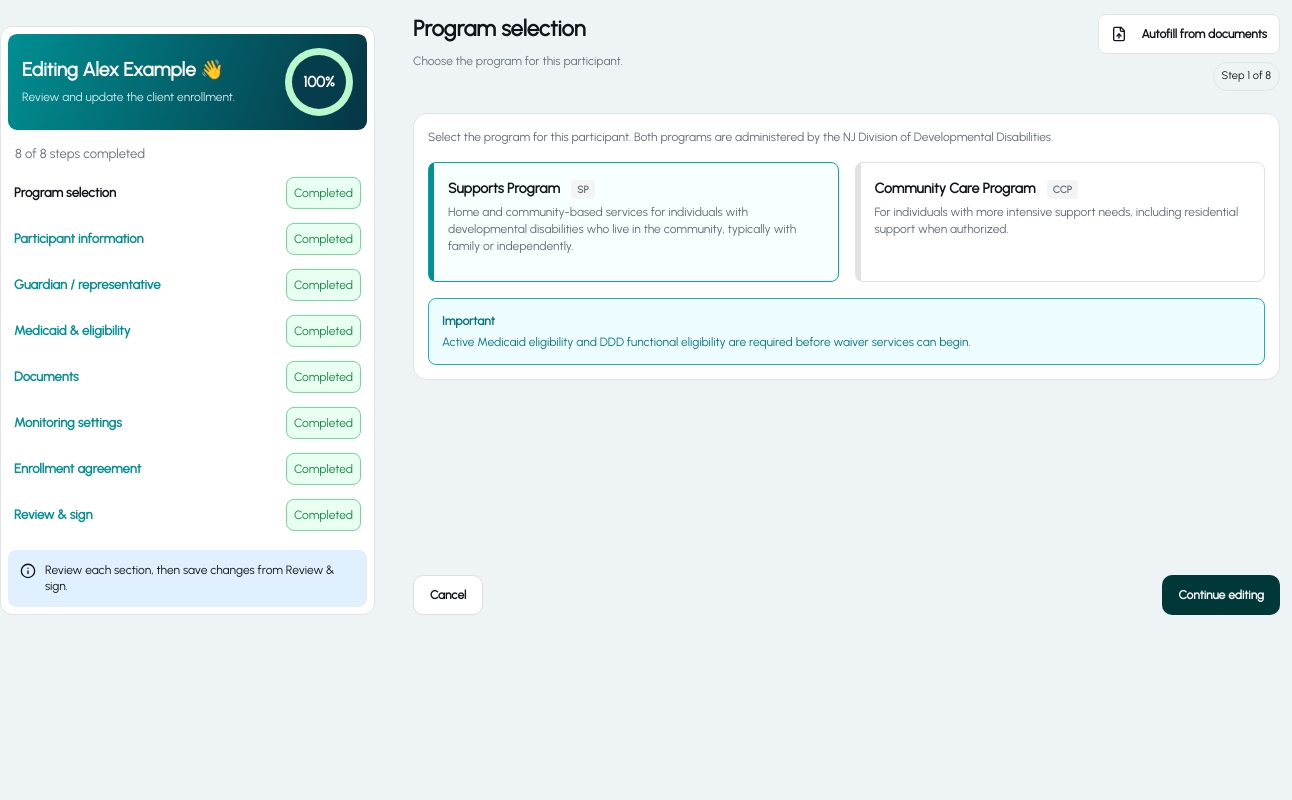
Test: ordinary uploads keep edited metadata across navigation and append to existing documents only on final Save
Later steps or results of the test are not shown.
Expected: the text "Editing Alex Example" is shown, x1=22 y1=58 x2=196 y2=81
Click the button "Documents Completed" at (46, 376), box x1=8 y1=353 x2=367 y2=399
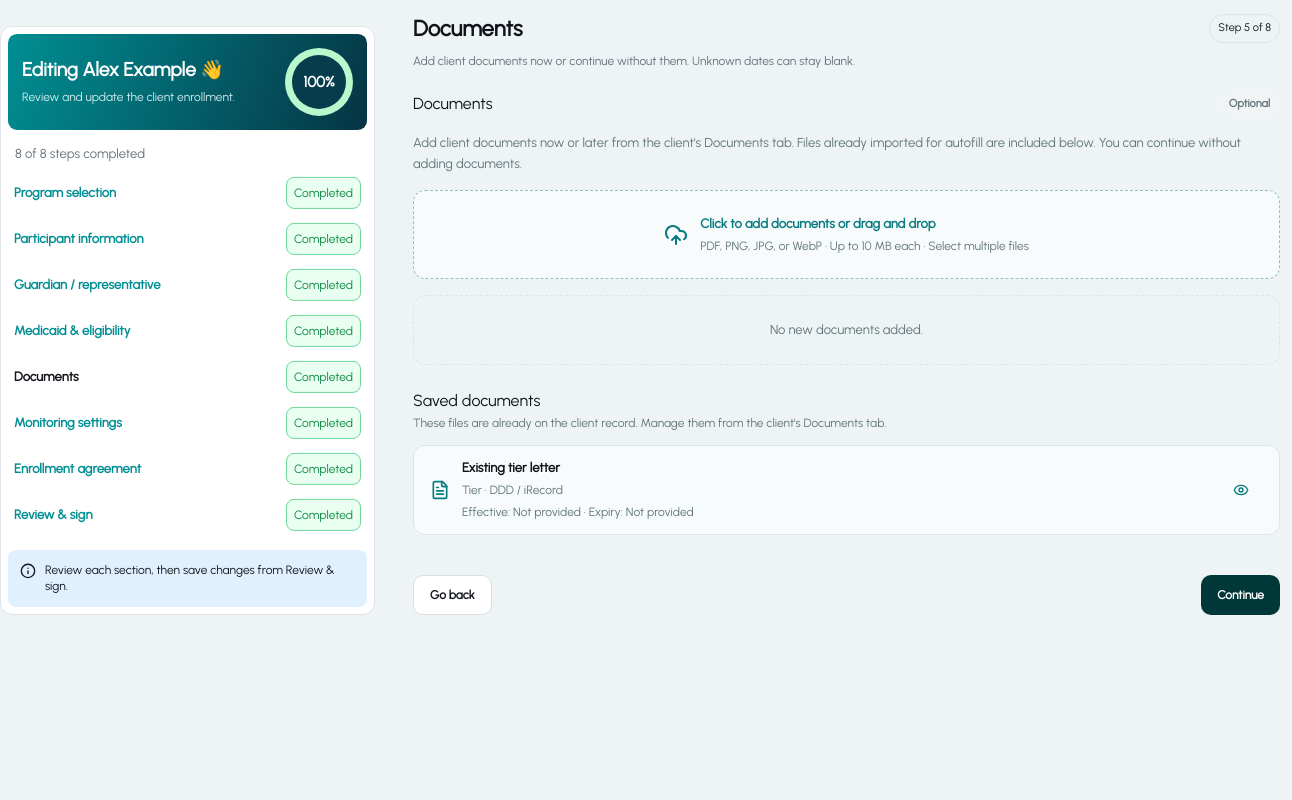
Expected: the element "Saved documents" shows "Existing tier letter", x1=462 y1=460 x2=560 y2=475
